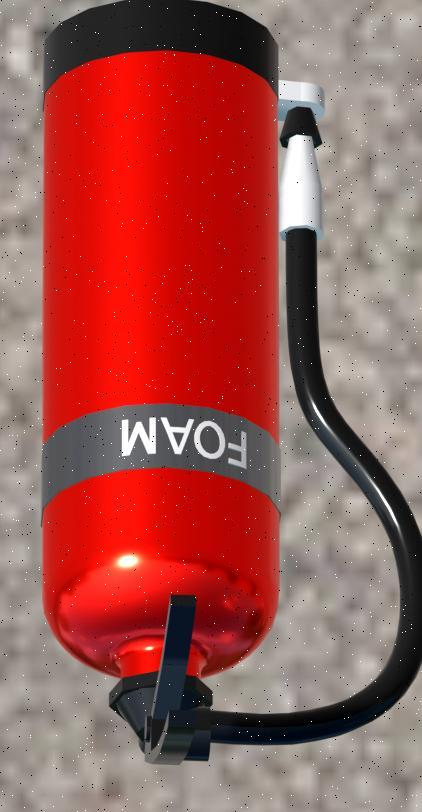Fire Extinguisher: (16, 4, 422, 780)
